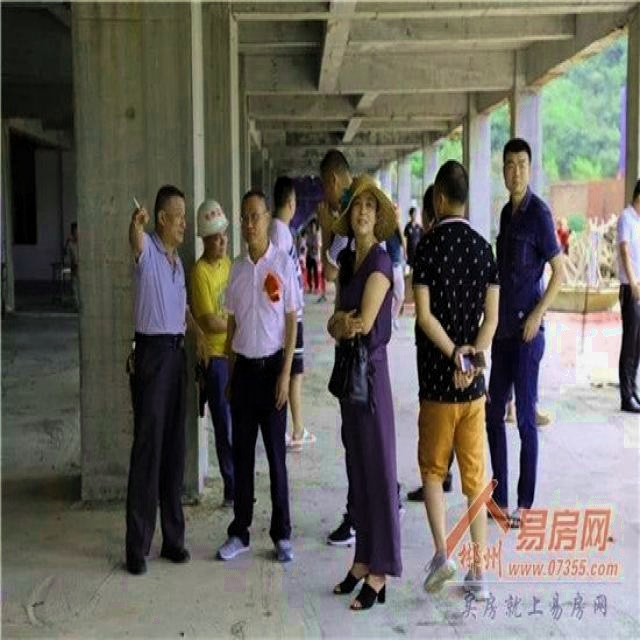Sin_Casco_Mascarrilla: (153, 183, 187, 249), (501, 136, 533, 193), (240, 188, 270, 247)
